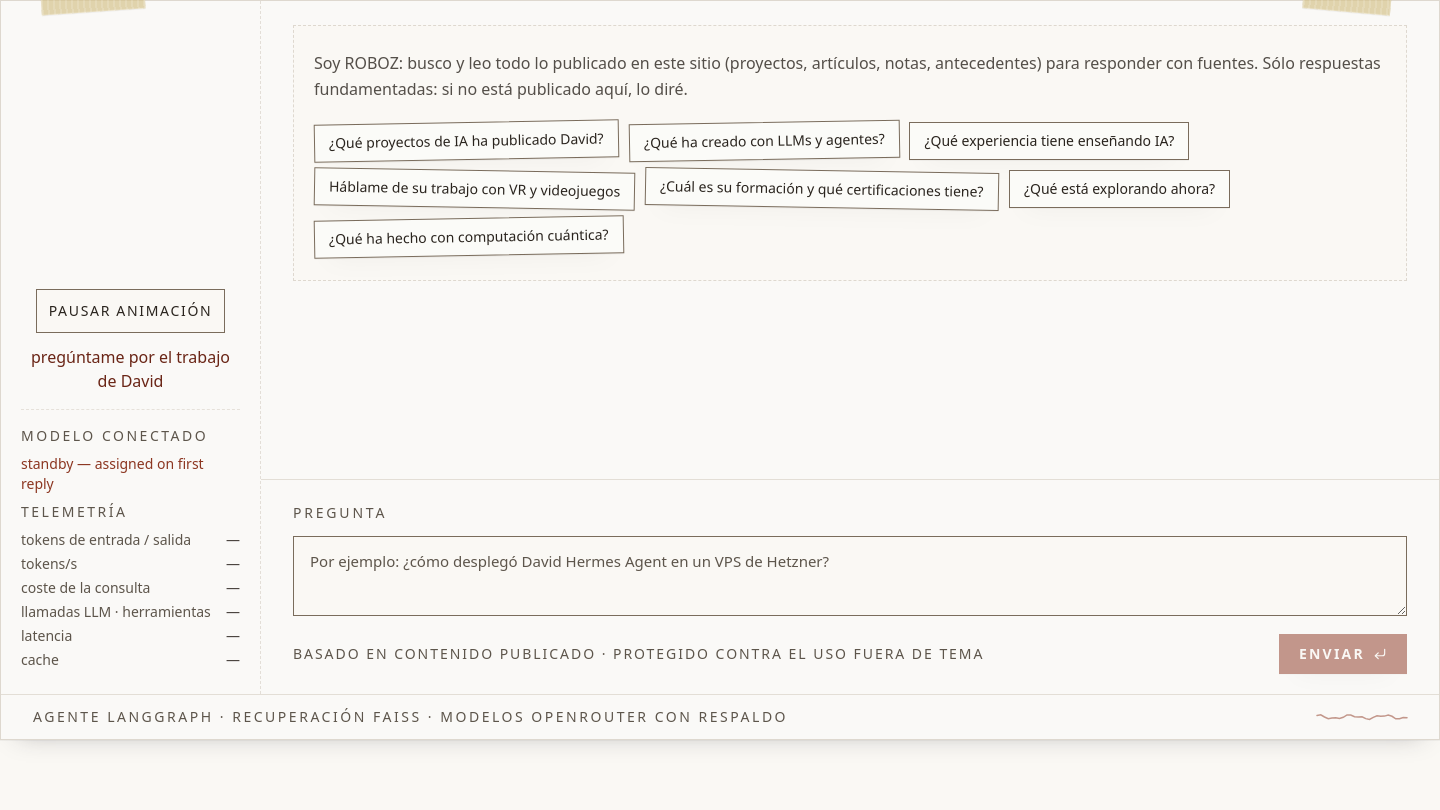
Test: ChatExperience › sends the selected language and the translated suggestion to the API
Click the button "¿Qué proyectos de IA ha publicado David?": (466, 141) [314,119,619,163]
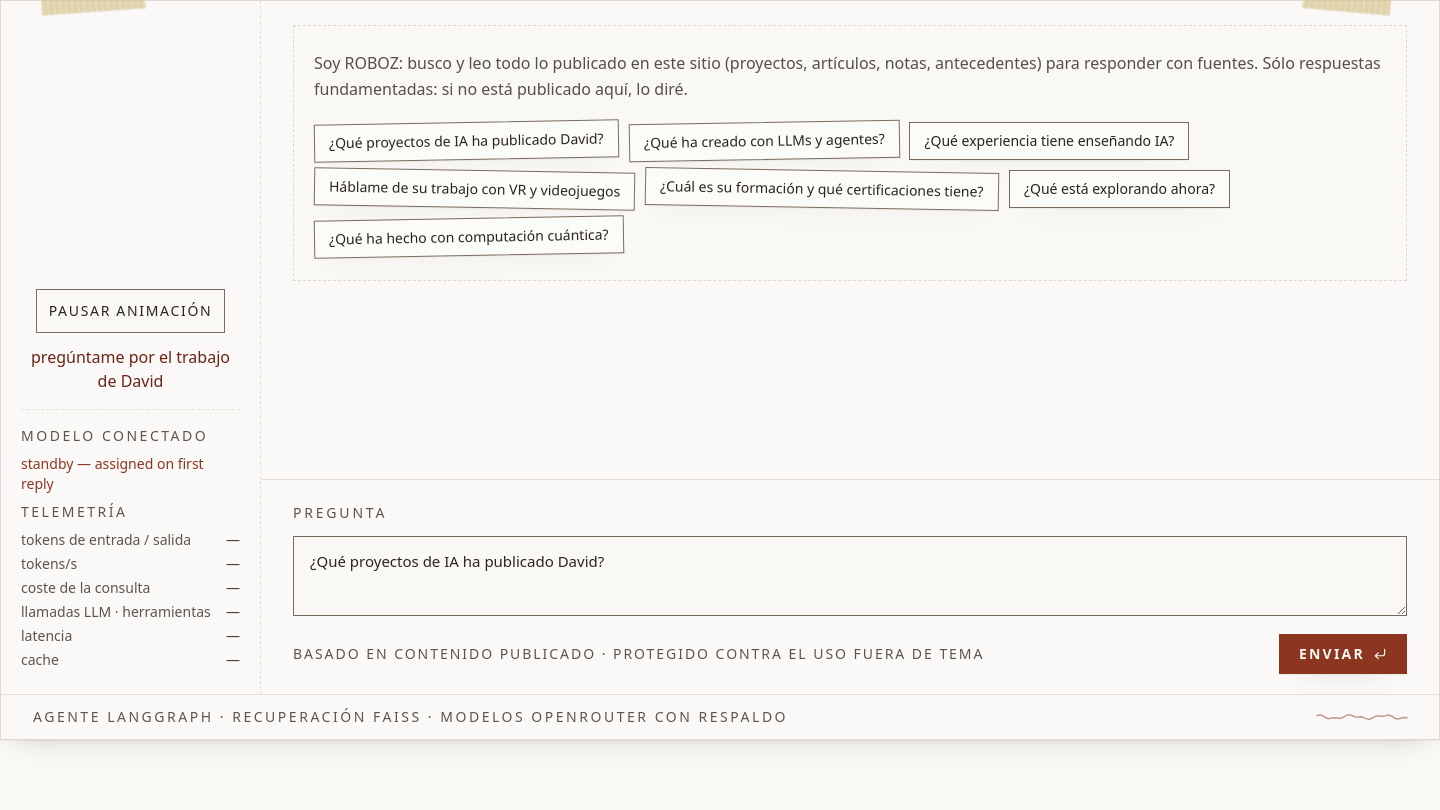
Expected: the text box labelled "Pregunta" holds "¿Qué proyectos de IA ha publicado David?", [293,536,1407,616]
Click the button "Enviar": (1343, 654) [1279,634,1407,674]
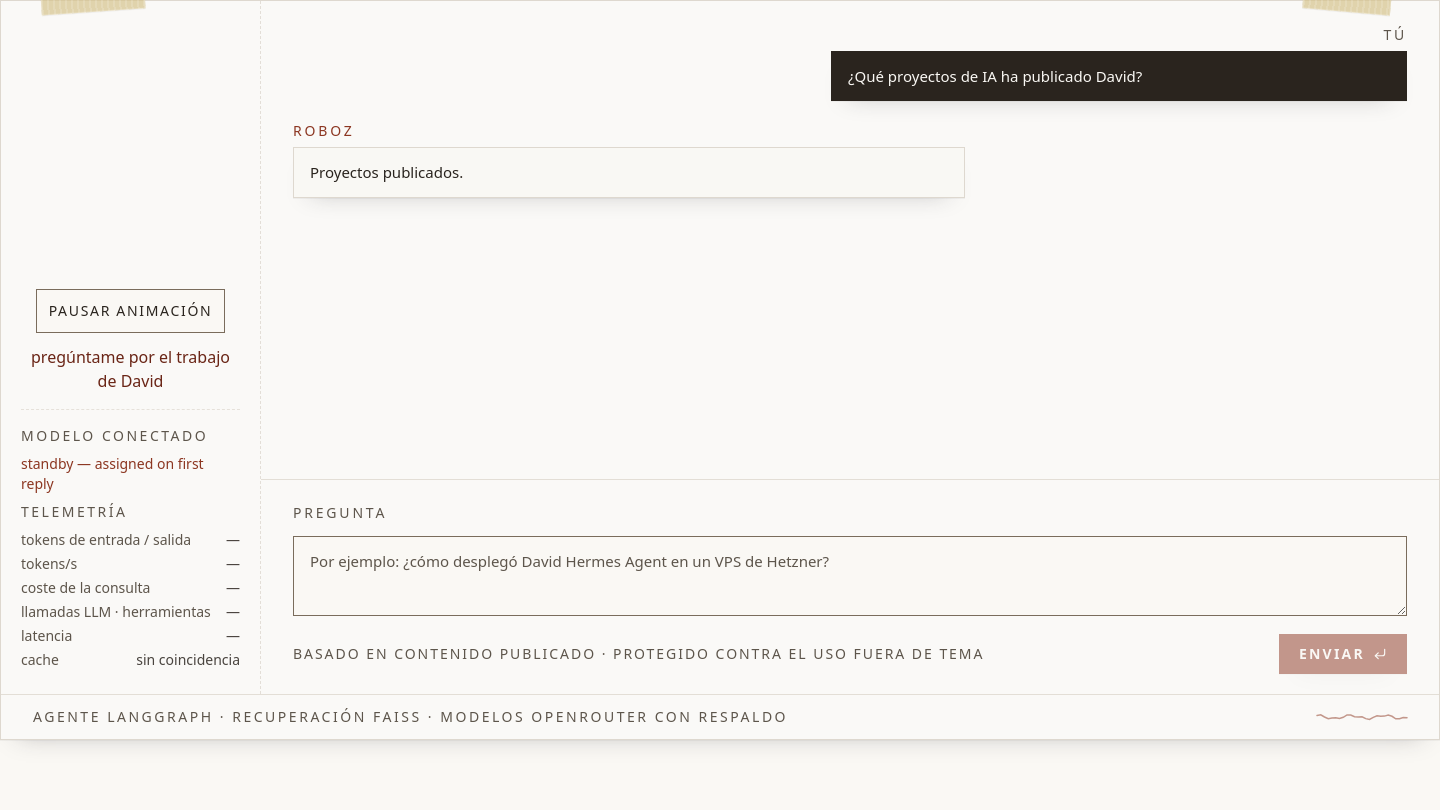
Expected: the text "Proyectos publicados." is shown, [310,162,463,182]
